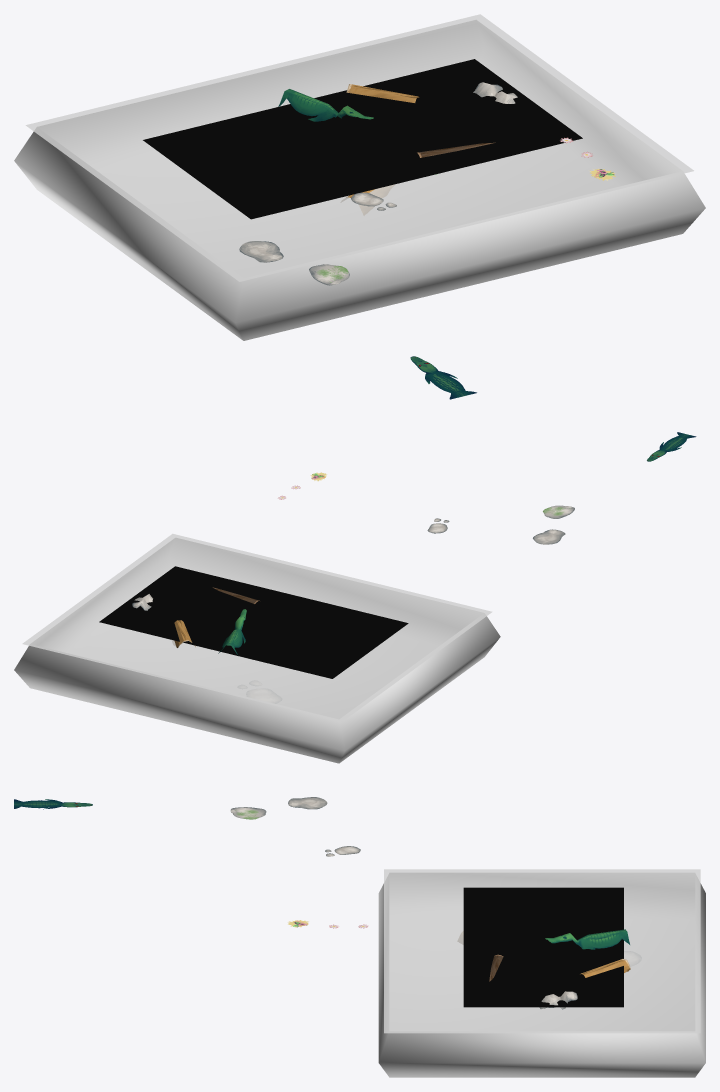
File: Generate Start with Alpha.fbx
The picture shows the model from 3 angles, top to bottom: view 1: azimuth 30°, elevation 25°; view 2: azimuth 150°, elevation 25°; view 3: azimuth 270°, elevation 25°; orthographic projection. The views are drawn at different scales.
Visible parts, largest first — view 1: Plane.001, Plane.007, Plane.033, Plane.009, Plane.022, Plane.031, Plane.015, Plane.016; view 2: Plane.001, Plane.007, Plane.033; view 3: Plane.001, Plane.007, Plane.033, Plane.009, Plane.022.
Part boxes in pixels (box(x1,y1,x2,y2)): Plane.001: box(14, 20, 705, 340); Plane.007: box(25, 14, 693, 281); Plane.033: box(143, 59, 582, 219); Plane.009: box(278, 89, 373, 121); Plane.022: box(410, 356, 476, 399); Plane.031: box(239, 241, 283, 262); Plane.015: box(309, 264, 349, 285); Plane.016: box(346, 84, 419, 102); Plane.001: box(14, 538, 500, 763); Plane.007: box(22, 533, 492, 721); Plane.033: box(99, 566, 408, 678); Plane.001: box(378, 873, 705, 1077); Plane.007: box(384, 869, 700, 1033); Plane.033: box(463, 887, 623, 1007); Plane.009: box(545, 929, 629, 949); Plane.022: box(14, 799, 92, 809).
Bounding box in the file's own units: 979 × 249 × 1522.
